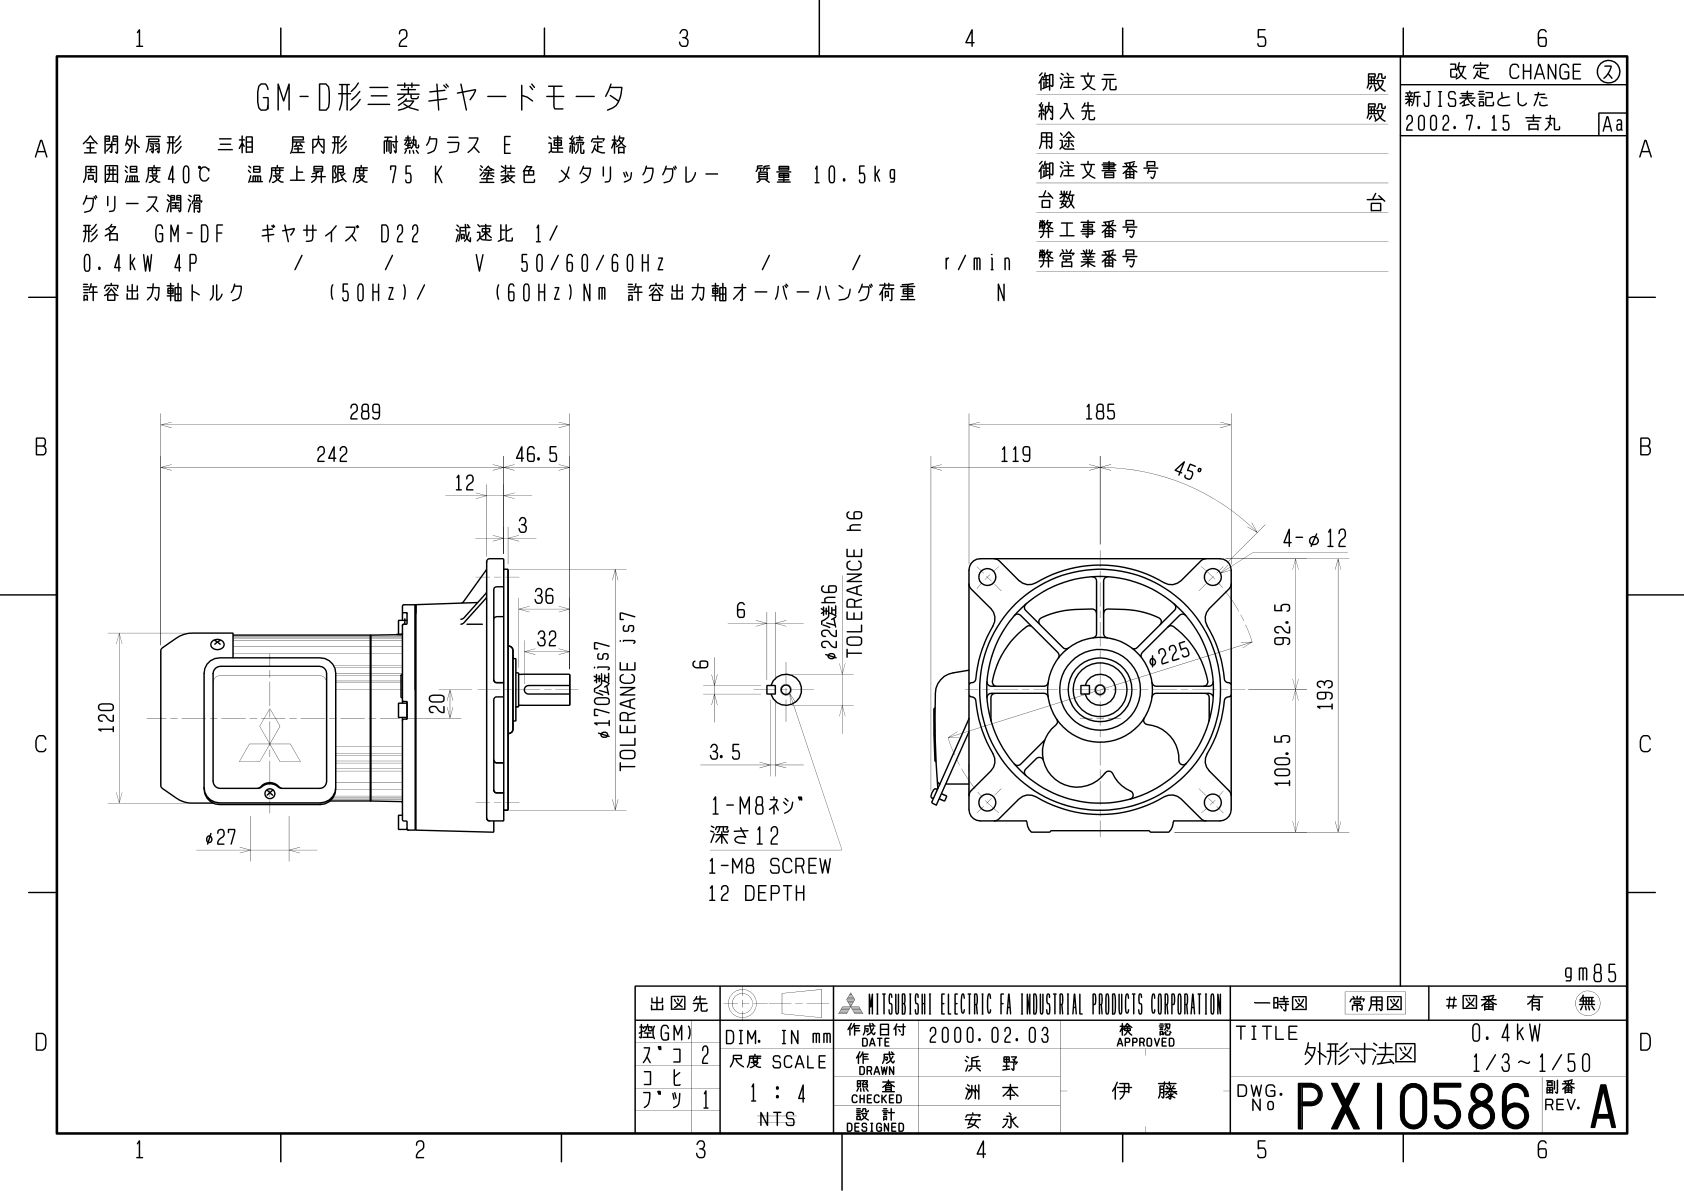GM_D_屋内＿三相_フランジ: (70, 369, 1385, 947)
